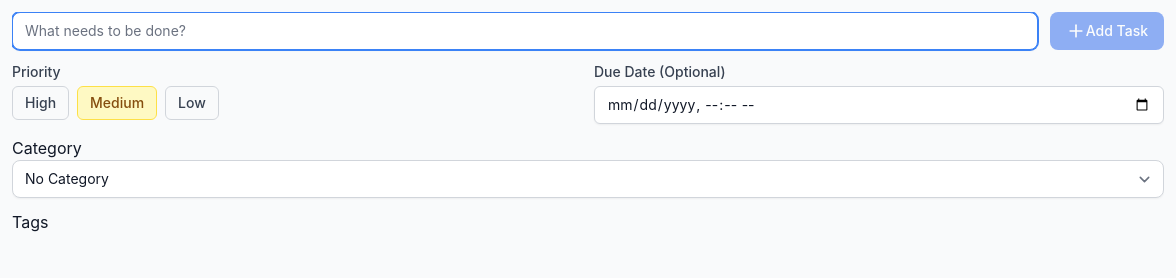
TaskForm › should enable submit button when description has content
Type "Buy milk" into the field with placeholder "What needs to be done?".
click(525, 31); type("Buy milk")  # box [12,12,1038,50]
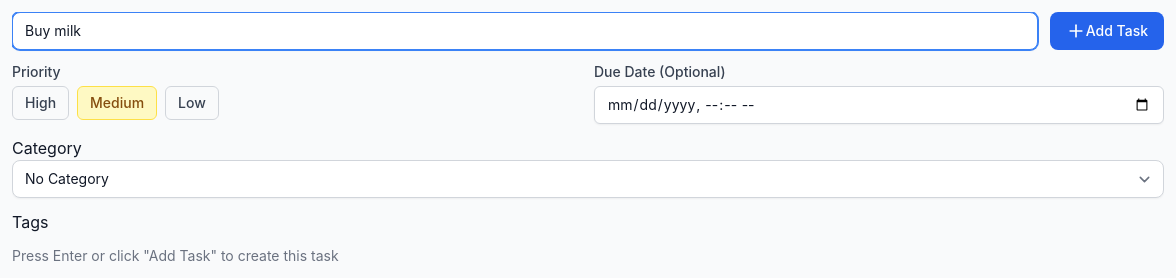
Check: the button "Add Task" is enabled, box [1050,12,1164,50]
